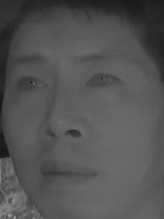eye: (83, 68, 122, 92), (15, 71, 50, 96)
mouth: (36, 157, 99, 192)
